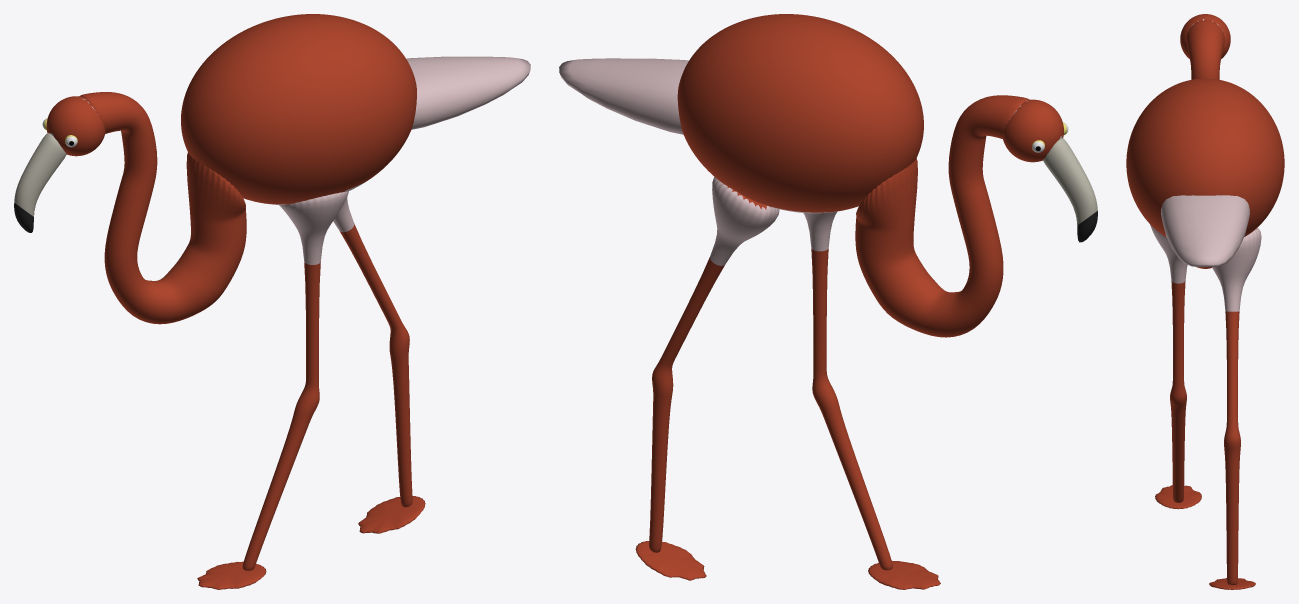
The model's file is Flamingo.fbx.
3 views of the same model, side by side, from view 1: azimuth 30°, elevation 25°; view 2: azimuth 150°, elevation 25°; view 3: azimuth 270°, elevation 25° (orthographic). The views are drawn at different scales.
Visible parts, largest first — view 1: Cylinder.001; view 2: Cylinder.001; view 3: Cylinder.001.
Part boxes in pixels (x1,y1,x2,y2): Cylinder.001: (14, 14, 530, 589); Cylinder.001: (559, 14, 1097, 589); Cylinder.001: (1126, 14, 1284, 589).
Size of the model in its own units: 4.04 by 4.05 by 1.28.
